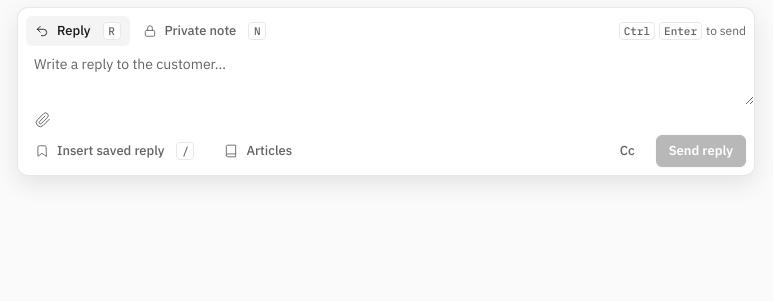
it: an unexpected failure also keeps the text
Step 1. Type "Keep me" into the text box named "Message body" → (386, 76), box [18,46,754,105]
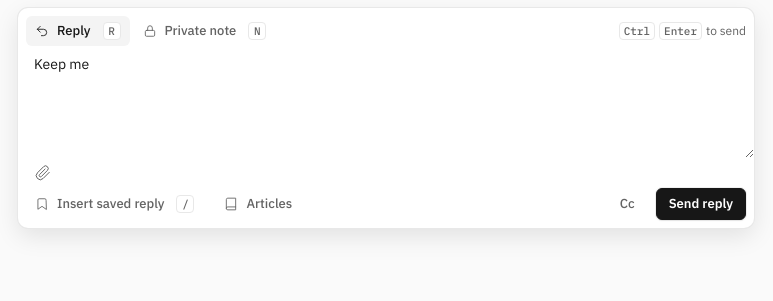
Step 2. Press Enter in the text box named "Message body", box [18,46,754,158]
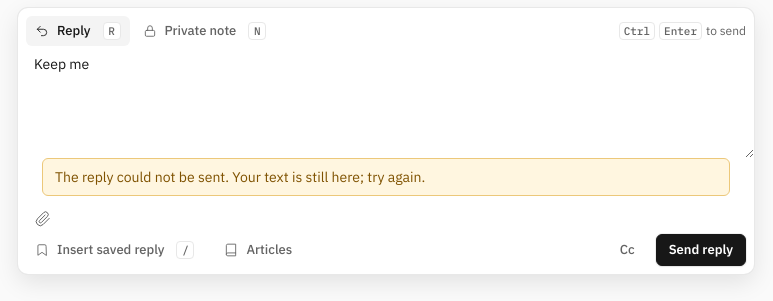
expect the message shows "could not be sent": met, box [55,168,425,186]
